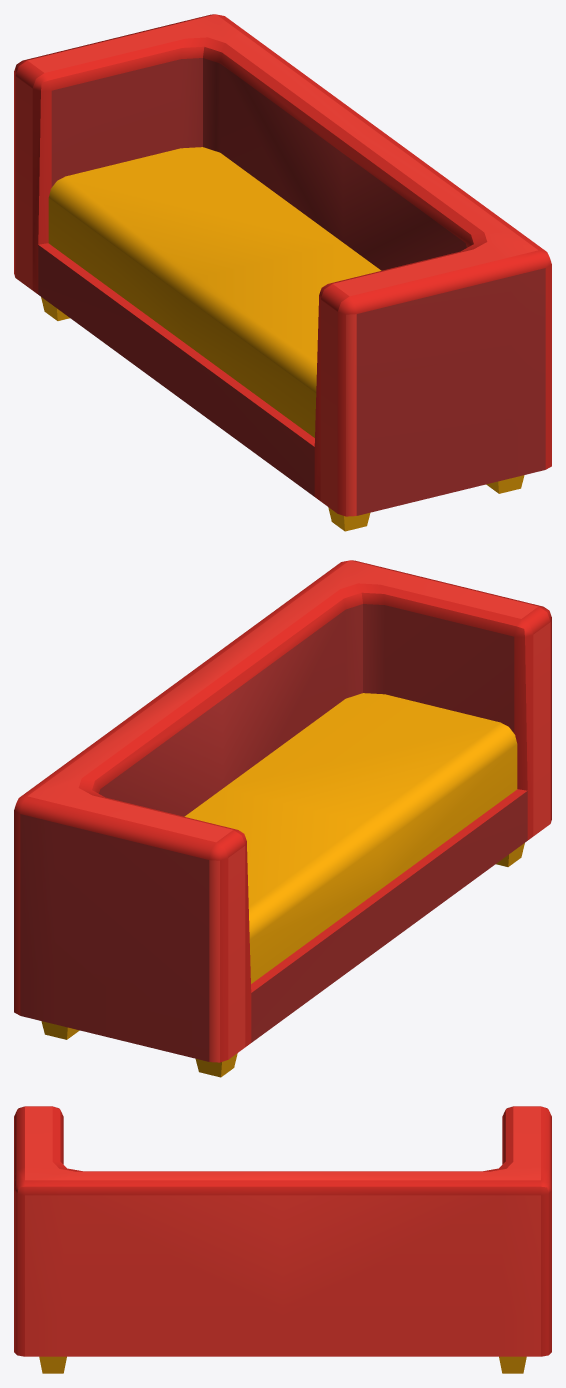
The model's file is Sofa.fbx.
The picture shows the model from 3 angles, top to bottom: view 1: azimuth 30°, elevation 25°; view 2: azimuth 150°, elevation 25°; view 3: azimuth 270°, elevation 25°; orthographic projection. The views are drawn at different scales.
Visible parts, largest first — view 1: Sofa; view 2: Sofa; view 3: Sofa.
Boxes of the visible parts, <box> form: Sofa: <box>14,14,551,531</box>; Sofa: <box>14,560,551,1077</box>; Sofa: <box>14,1106,551,1373</box>.
Size of the model in its own units: 6.14 by 6.74 by 16.79.
